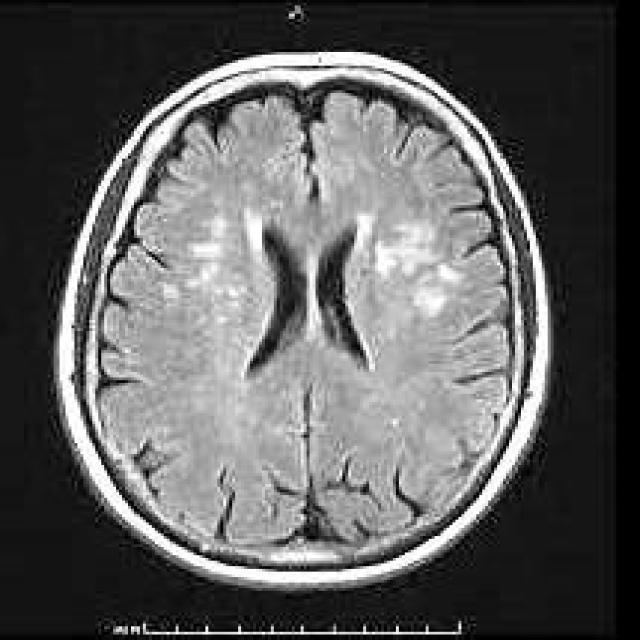notumor: (54, 55, 554, 599)
